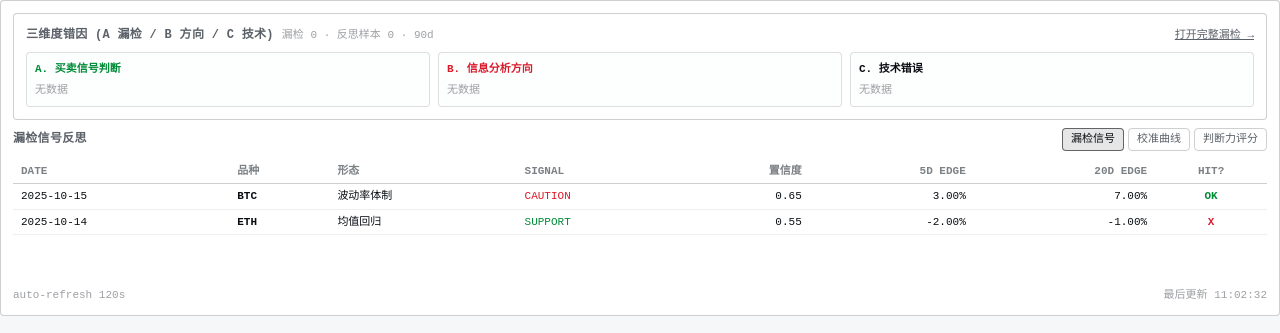
Test: MissedSignalsPanel › switches to calibration tab and shows week row
expect the text "BTC" is shown: met, box [229,184,329,209]
Click the tab "校准曲线": [1159, 139] box [1128,128,1190,150]
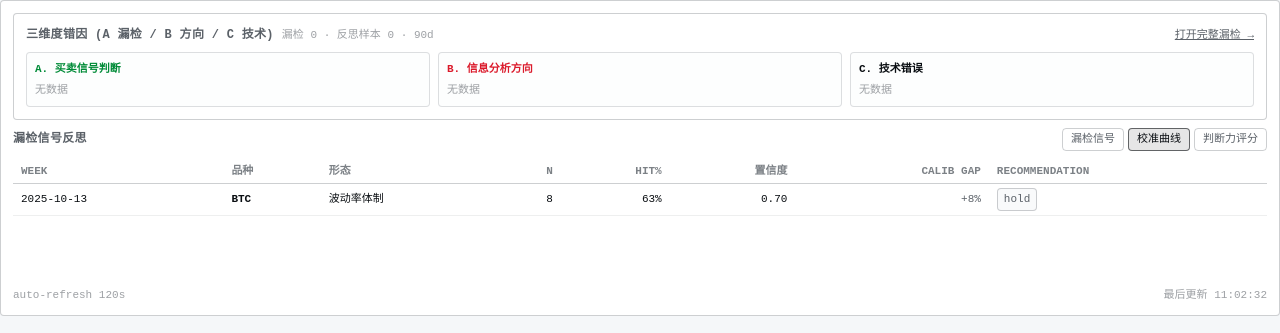
expect the text "2025-10-13" is shown: met, box [13,184,223,215]
expect the text "hold" is shown: met, box [997,188,1037,210]
